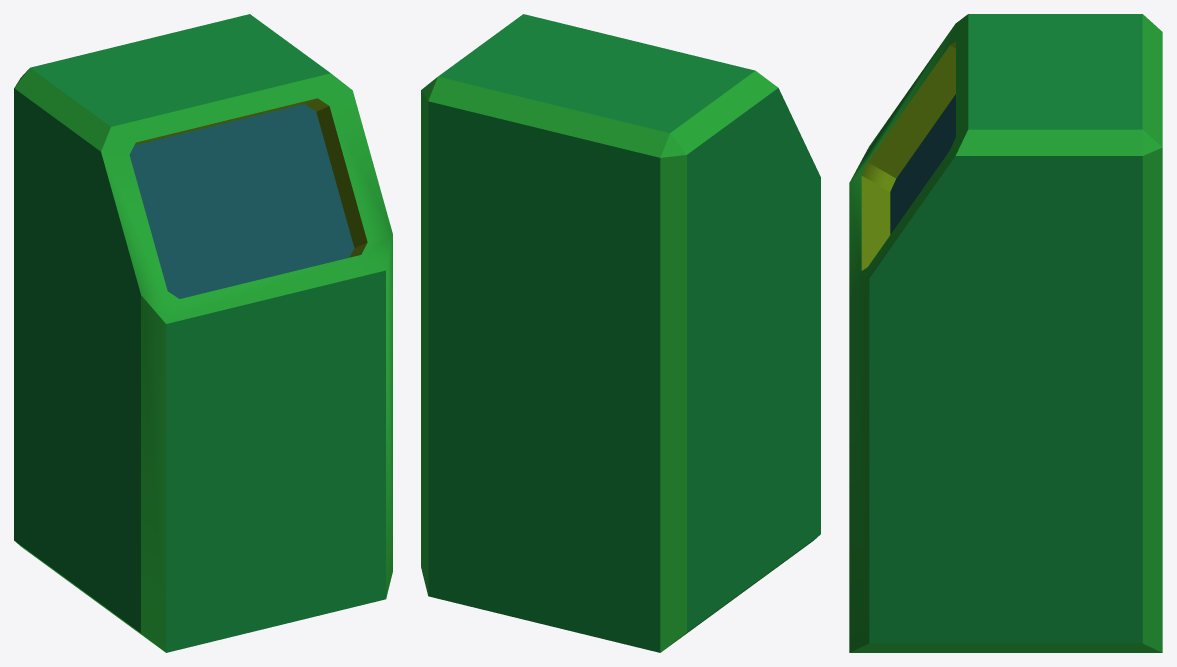
The model's file is trashcan.fbx.
3 renders of one model, left to right at view 1: azimuth 30°, elevation 25°; view 2: azimuth 150°, elevation 25°; view 3: azimuth 270°, elevation 25°, orthographic. The views are drawn at different scales.
Visible parts, largest first — view 1: trash_can; view 2: trash_can; view 3: trash_can.
Part boxes in pixels (box(x1,y1,x2,y2)): trash_can: box(14, 14, 392, 652); trash_can: box(421, 14, 820, 652); trash_can: box(849, 14, 1162, 652).
Size of the model in its own units: 47.6 by 87.75 by 47.6.
Materials: 1 (1 with a texture image).
